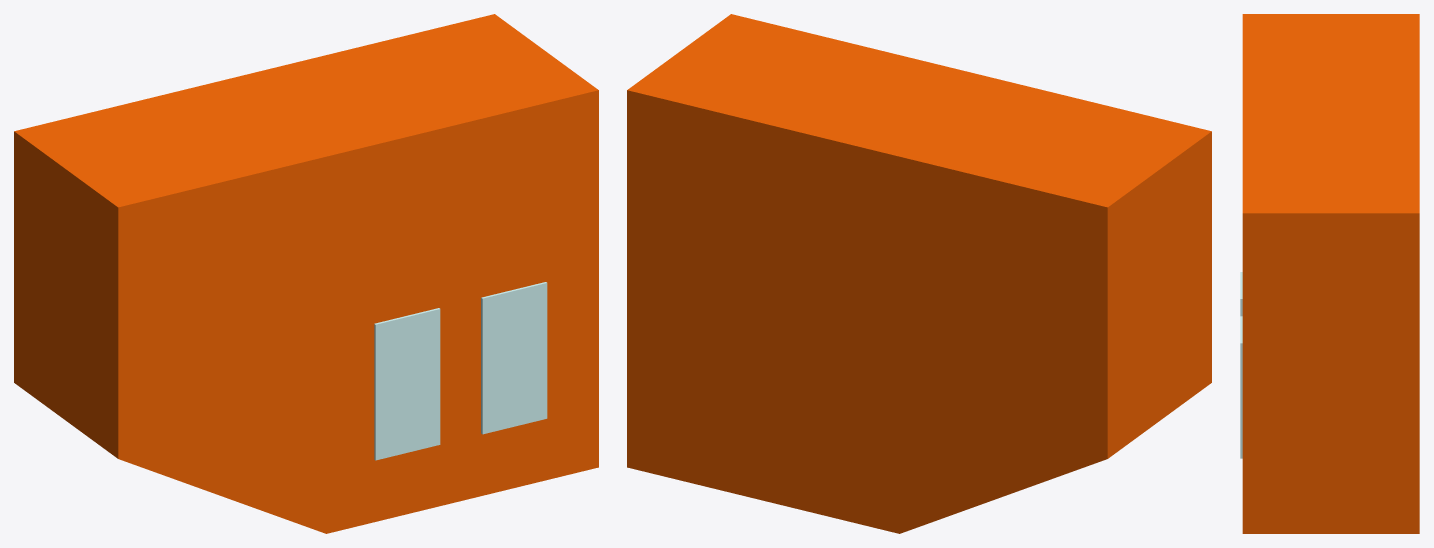
3 views of the same model, side by side, from view 1: azimuth 30°, elevation 25°; view 2: azimuth 150°, elevation 25°; view 3: azimuth 270°, elevation 25° (orthographic). The views are drawn at different scales.
Parts seen in each view (by area): view 1: Mesh_0.006; view 2: Mesh_0.006; view 3: Mesh_0.006.
Part boxes in pixels (box(x1,y1,x2,y2)): Mesh_0.006: box(14, 14, 598, 533); Mesh_0.006: box(627, 14, 1211, 533); Mesh_0.006: box(1240, 14, 1419, 533).
Size of the model in its own units: 4 by 3 by 1.52.
